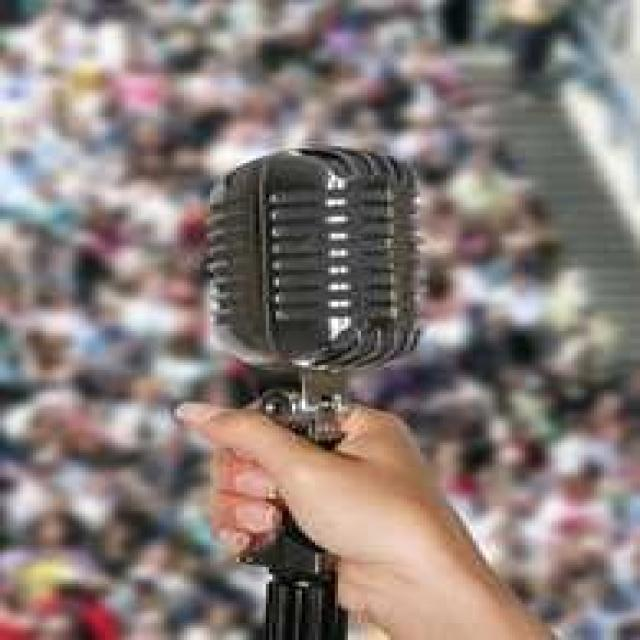microphone: (205, 149, 421, 384)
